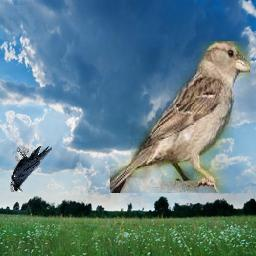Crow: (10, 146, 52, 192)
Sparrow: (110, 41, 250, 193)
